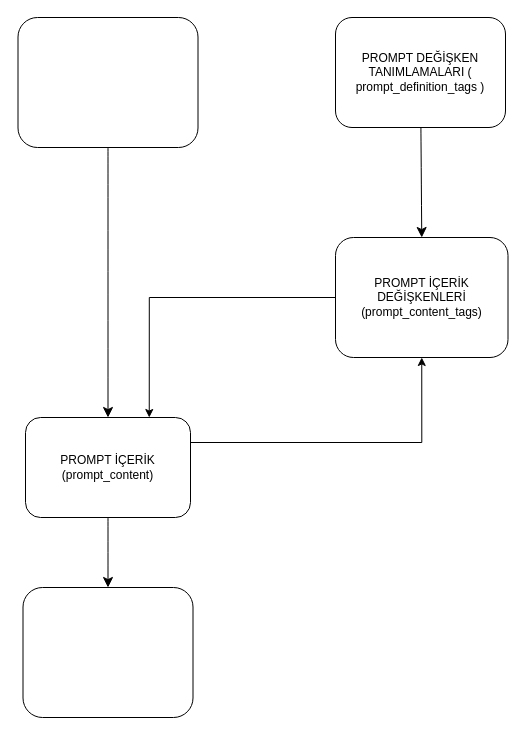
Some shapes in this 525 by 735 pixel diagram are drawn without their labels. The centre of each missing label's shape, as x and y in pixels:
PROMPT MENÜ (prompt_menu ): (107,652)
PROMPT TİPLERİ (prompt_definition_type): (107,82)
